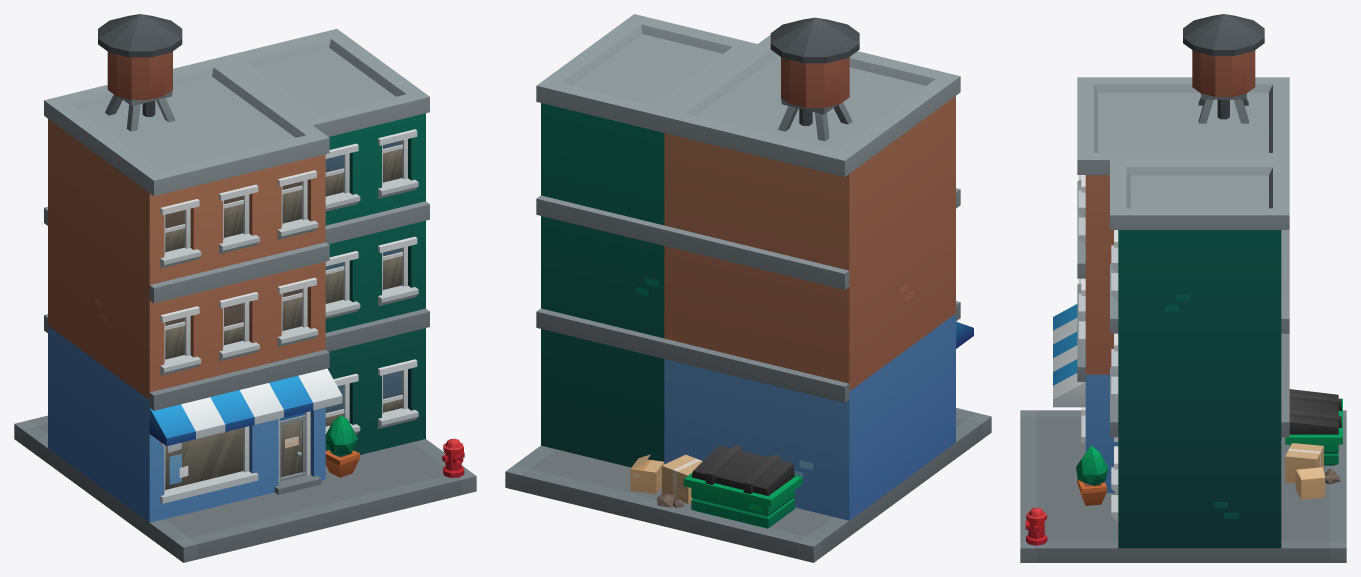
Rendered from building_G.obj.
3 views of the same model, side by side, from view 1: azimuth 30°, elevation 25°; view 2: azimuth 150°, elevation 25°; view 3: azimuth 270°, elevation 25° (orthographic). The views are drawn at different scales.
Size of the model in its own units: 2.01 by 2.98 by 2.
Materials: 1 (1 with a texture image).
